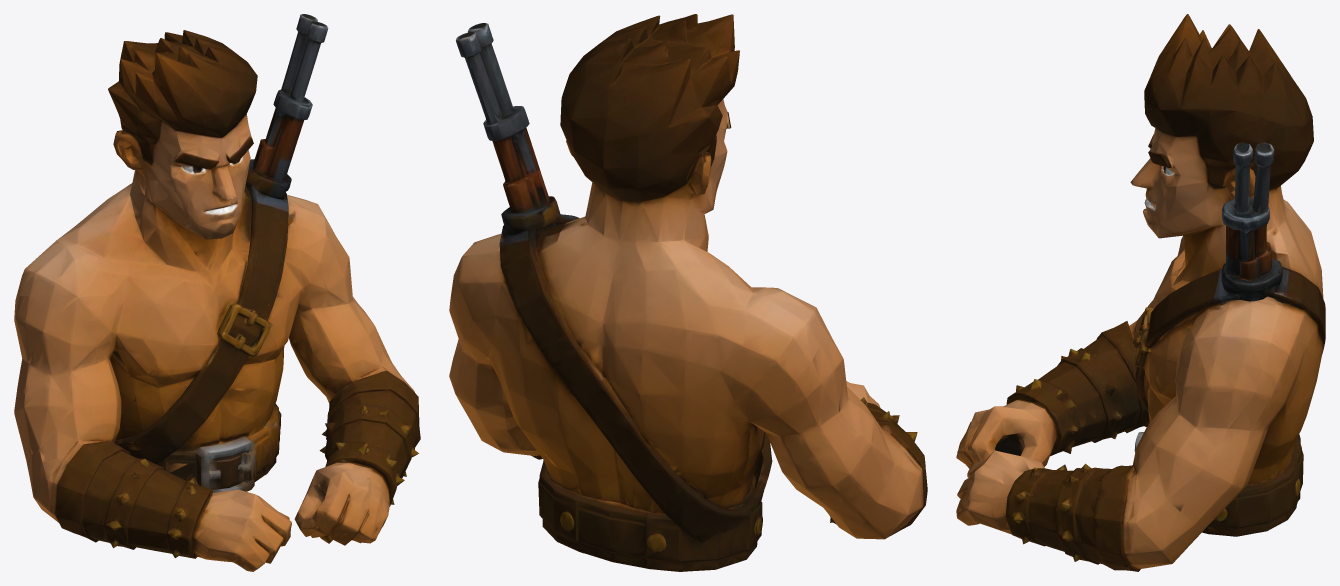
File: hunter.glb
3 views of the same model, side by side, from view 1: azimuth 30°, elevation 25°; view 2: azimuth 150°, elevation 25°; view 3: azimuth 270°, elevation 25° (orthographic). The views are drawn at different scales.
Visible parts, largest first — view 1: node_0; view 2: node_0; view 3: node_0.
Boxes of the visible parts, left/top/right/bottom form: node_0: left=14, top=14, right=420, bottom=571; node_0: left=449, top=14, right=927, bottom=571; node_0: left=956, top=14, right=1325, bottom=571.
Bounding box in the file's own units: 0.8527 × 0.9707 × 0.7086.
Materials: 1 (1 with a texture image).
